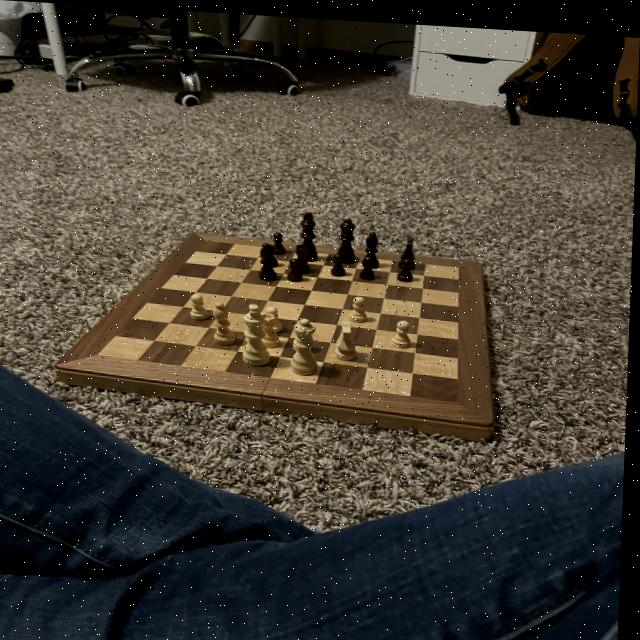bishop: (361, 225, 386, 265), (259, 238, 281, 280)
black-bishop: (298, 207, 323, 258)
black-king: (398, 232, 420, 267)
black-knight: (398, 252, 419, 279), (287, 254, 309, 279), (263, 241, 284, 267), (359, 250, 379, 276), (331, 249, 351, 274), (270, 226, 289, 251)
black-pawn: (335, 212, 360, 261)
black-queen: (295, 239, 314, 271)
black-rook: (213, 298, 243, 343)
white-bishop: (240, 299, 277, 365)
white-king: (335, 313, 365, 358)
white-knight: (291, 314, 320, 351), (189, 289, 215, 319), (393, 315, 416, 346), (265, 301, 289, 330), (351, 290, 372, 319)
white-pawn: (292, 314, 325, 375)
white-queen: (259, 307, 285, 346)
